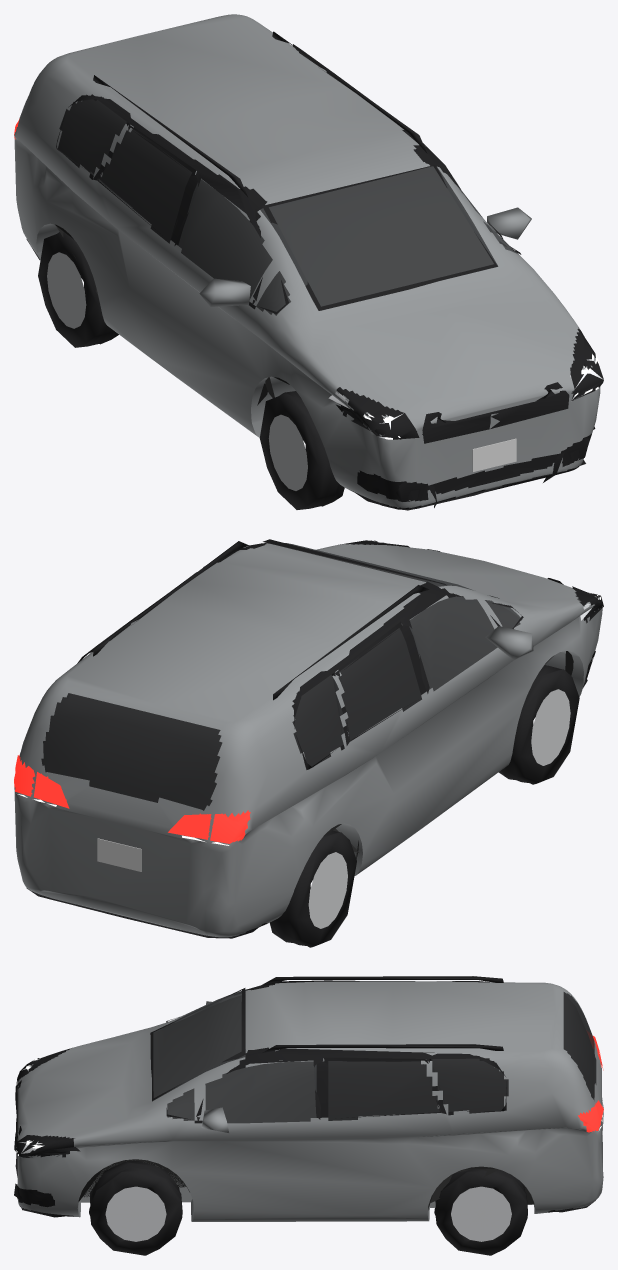
File: minivan-lod2.glb
3 views of the same model, one above another, from view 1: azimuth 30°, elevation 25°; view 2: azimuth 150°, elevation 25°; view 3: azimuth 270°, elevation 25° (orthographic). The views are drawn at different scales.
Visible parts, largest first — view 1: Body, Body_Lining, Body_Trim, Wheel_FR_Tyre, Wheel_RR_Tyre, Wheel_RR_Face, Wheel_FR_Face, Mirror_R_Housing, PlateFront, Mirror_L_Housing, RoofRail_L, RoofRail_R; view 2: Body, Body_Lining, Body_Trim, Wheel_RR_Tyre, Wheel_FR_Tyre, Wheel_FR_Face, Wheel_RR_Face, PlateRear, Mirror_R_Housing, RoofRail_L, RoofRail_R; view 3: Body, Body_Lining, Body_Trim, Wheel_FL_Tyre, Wheel_RL_Tyre, Wheel_FL_Face, Wheel_RL_Face, RoofRail_L, RoofRail_R, Arch_F_L_Liner, Mirror_L_Housing, Arch_R_L_Liner.
Boxes of the visible parts, <box> form: Body: <box>14,14,600,509</box>; Body_Lining: <box>59,100,493,315</box>; Body_Trim: <box>14,44,603,510</box>; Wheel_FR_Tyre: <box>259,391,344,509</box>; Wheel_RR_Tyre: <box>38,232,118,347</box>; Wheel_RR_Face: <box>47,252,86,328</box>; Wheel_FR_Face: <box>268,414,307,490</box>; Mirror_R_Housing: <box>199,278,250,306</box>; PlateFront: <box>472,438,516,471</box>; Mirror_L_Housing: <box>487,207,531,239</box>; RoofRail_L: <box>272,31,427,153</box>; RoofRail_R: <box>93,75,247,196</box>; Body: <box>14,543,602,937</box>; Body_Lining: <box>44,552,519,808</box>; Body_Trim: <box>15,539,603,938</box>; Wheel_RR_Tyre: <box>269,830,356,947</box>; Wheel_FR_Tyre: <box>498,665,579,784</box>; Wheel_FR_Face: <box>531,689,570,765</box>; Wheel_RR_Face: <box>308,852,347,928</box>; PlateRear: <box>97,838,141,871</box>; Mirror_R_Housing: <box>485,626,533,660</box>; RoofRail_L: <box>93,541,249,656</box>; RoofRail_R: <box>273,585,429,700</box>; Body: <box>17,981,603,1221</box>; Body_Lining: <box>153,995,593,1122</box>; Body_Trim: <box>14,980,603,1217</box>; Wheel_FL_Tyre: <box>89,1161,182,1255</box>; Wheel_RL_Tyre: <box>434,1169,527,1255</box>; Wheel_FL_Face: <box>105,1186,166,1241</box>; Wheel_RL_Face: <box>451,1186,511,1241</box>; RoofRail_L: <box>262,1044,503,1052</box>; RoofRail_R: <box>261,976,503,985</box>; Arch_F_L_Liner: <box>78,1159,189,1201</box>; Mirror_L_Housing: <box>201,1107,228,1132</box>; Arch_R_L_Liner: <box>428,1166,534,1210</box>.
Size of the model in its own units: 2.3 by 1.69 by 4.58.
